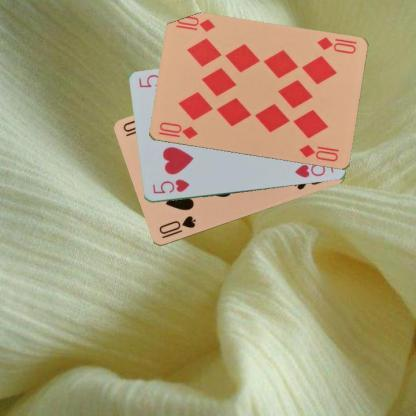10d: (155, 119, 199, 142), (314, 35, 358, 56)
10s: (156, 213, 198, 240)
5h: (150, 177, 190, 196)
